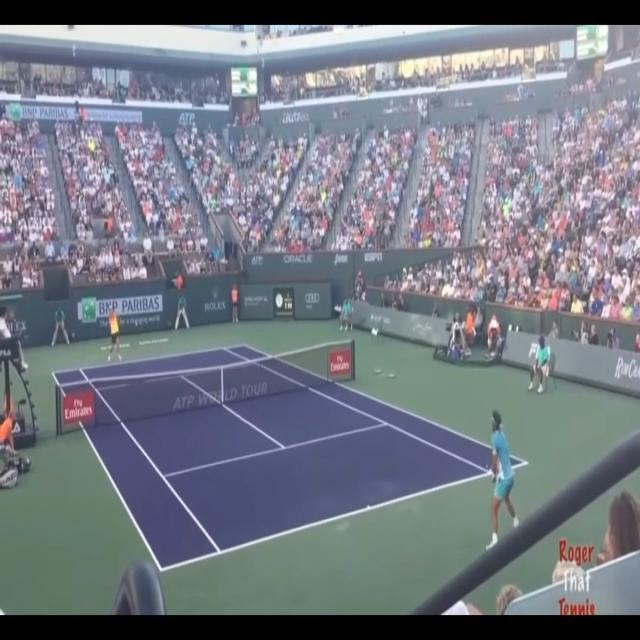court: (52, 344, 530, 573)
net: (57, 338, 356, 438)
player: (485, 408, 520, 554)
